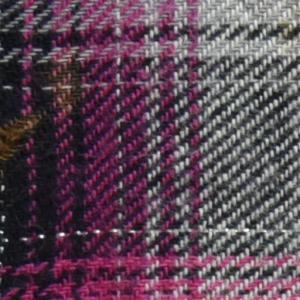Oil Stain: (1, 50, 95, 166)
